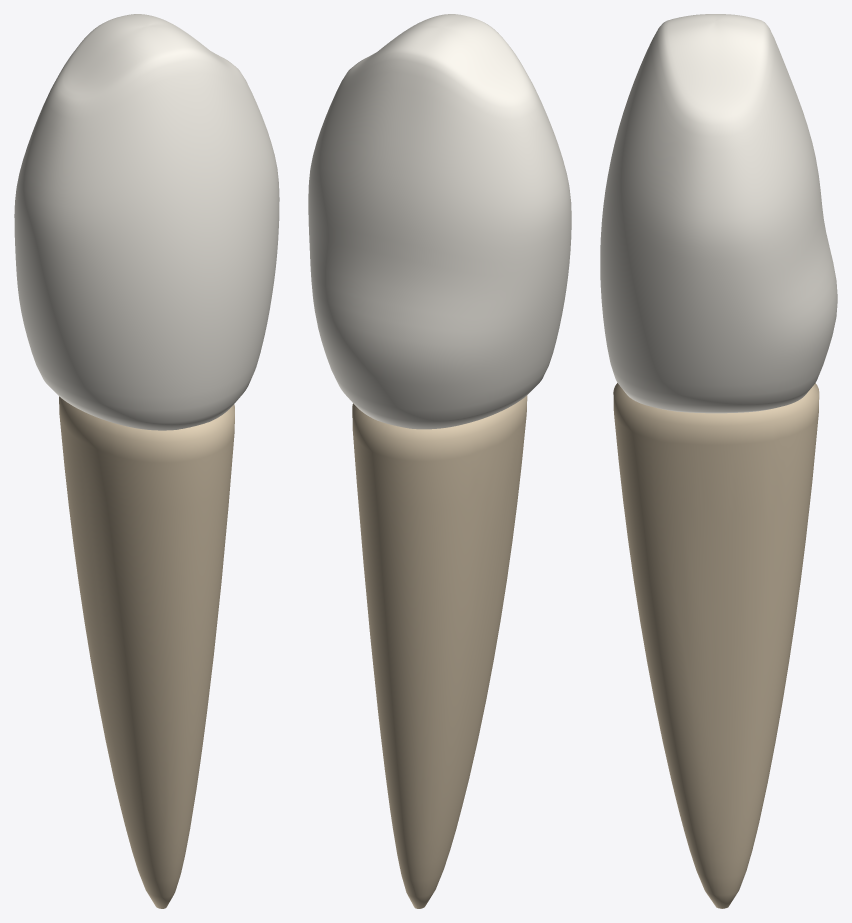
File: canino_inf.glb
The picture shows the model from 3 angles, left to right: view 1: azimuth 30°, elevation 25°; view 2: azimuth 150°, elevation 25°; view 3: azimuth 270°, elevation 25°; orthographic projection.
Parts seen in each view (by area): view 1: Corona, Raices; view 2: Corona, Raices; view 3: Corona, Raices.
Part boxes in pixels (x1,y1,x2,y2): Corona: [14, 14, 279, 430]; Raices: [59, 396, 234, 908]; Corona: [308, 14, 571, 429]; Raices: [352, 395, 527, 908]; Corona: [600, 14, 837, 413]; Raices: [613, 383, 819, 908].
Bounding box in the file's own units: 0.00689 × 0.0243 × 0.00596.
